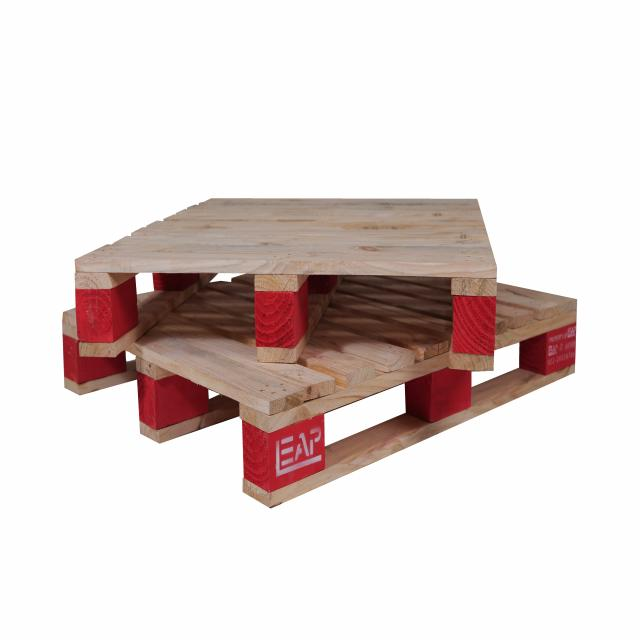block: (448, 270, 504, 367), (71, 260, 122, 364), (254, 264, 305, 358), (237, 399, 284, 500), (135, 353, 168, 442)
front: (71, 254, 502, 374)
